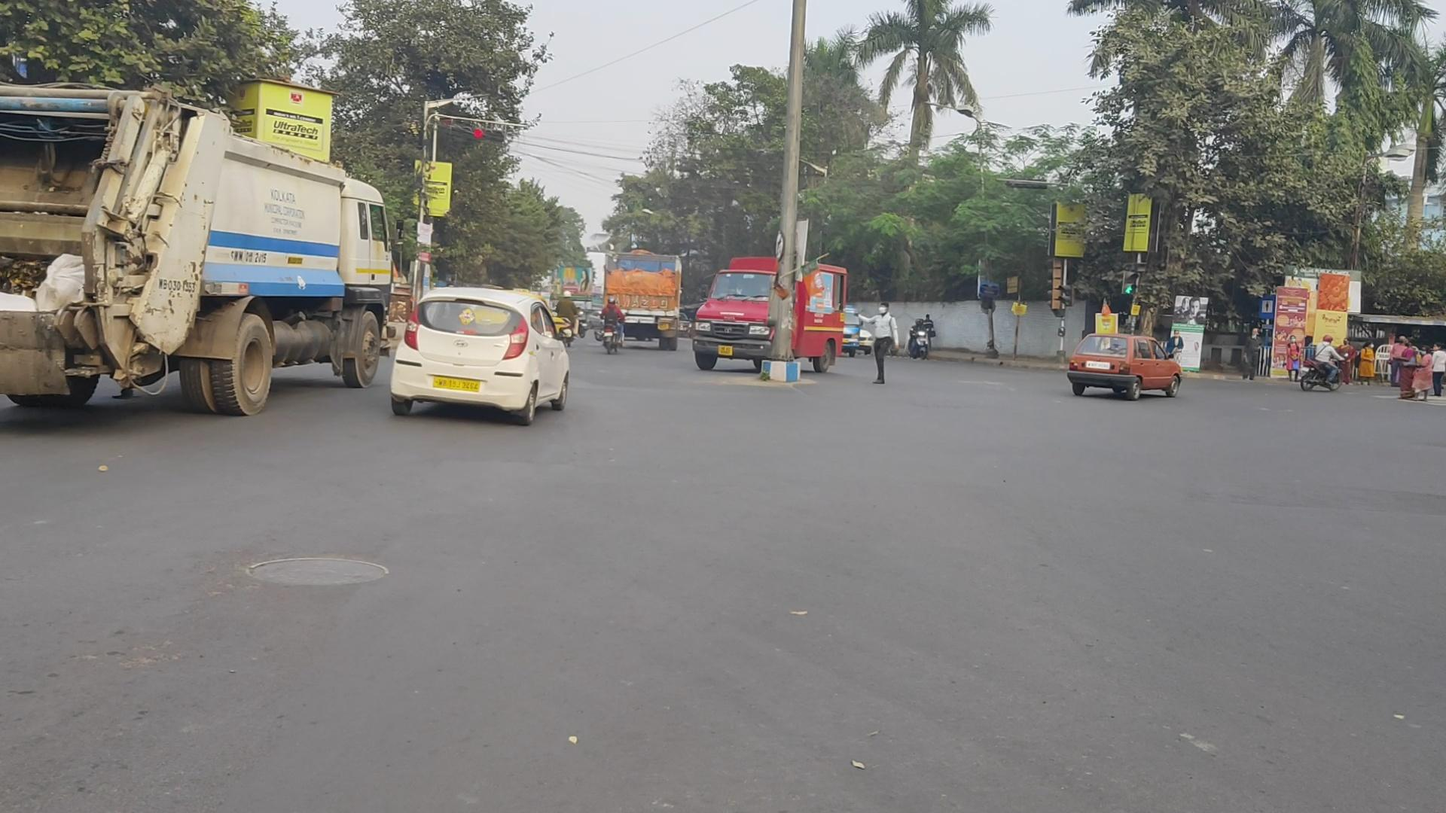bike: (1300, 334, 1349, 393), (594, 296, 629, 355), (908, 318, 929, 361)
car: (389, 285, 570, 426), (1067, 333, 1182, 401)
truck: (1, 79, 402, 418), (693, 255, 847, 373), (601, 250, 682, 352)
